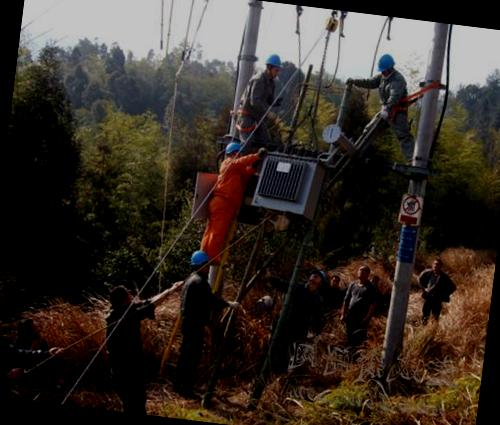no_helmet: (104, 278, 140, 310), (12, 312, 46, 345), (352, 255, 376, 282), (328, 271, 346, 290), (426, 255, 444, 273), (0, 302, 7, 347)
